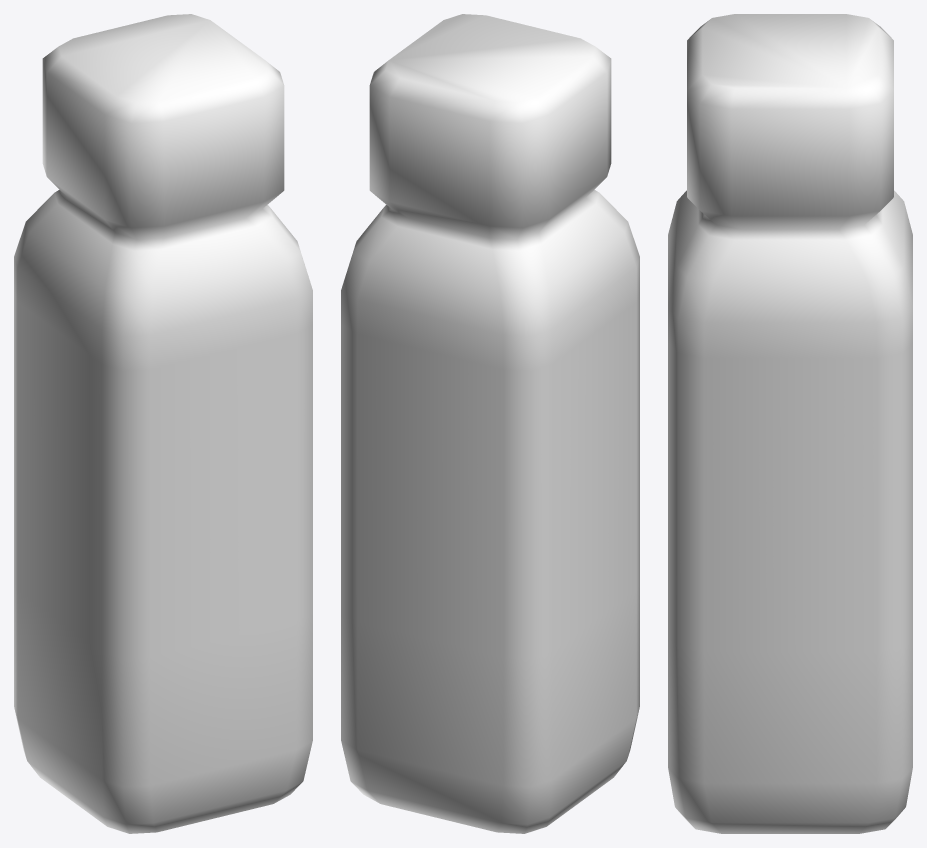
Rendered from Gunpowder.fbx.
3 renders of one model, left to right at view 1: azimuth 30°, elevation 25°; view 2: azimuth 150°, elevation 25°; view 3: azimuth 270°, elevation 25°, orthographic. The views are drawn at different scales.
Visible parts, largest first — view 1: Gunpowder; view 2: Gunpowder; view 3: Gunpowder.
Part boxes in pixels (bbox=[...]): Gunpowder: bbox=[14, 14, 312, 833]; Gunpowder: bbox=[341, 14, 639, 833]; Gunpowder: bbox=[668, 14, 912, 833].
Size of the model in its own units: 8.5 by 28.5 by 8.5.
1 material, 1 textured.
